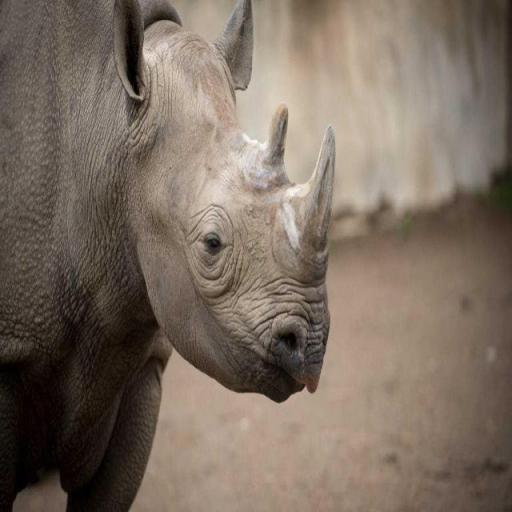Rhino: (0, 0, 336, 510)
